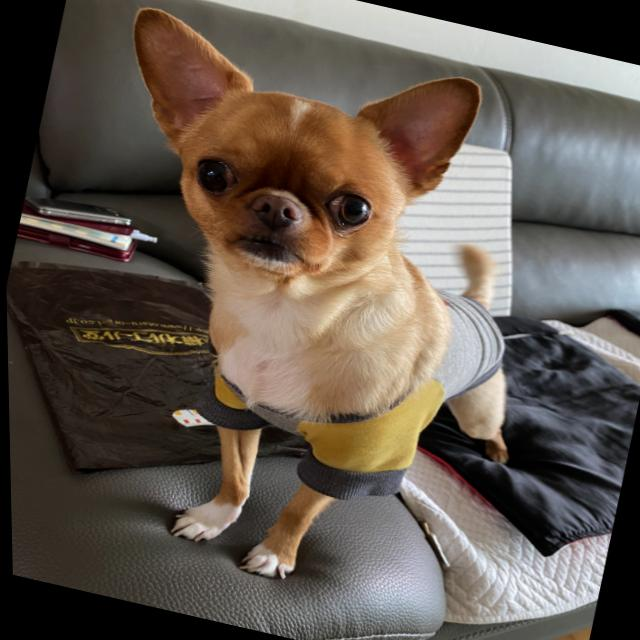dog-chihuahua: (83, 0, 494, 314)
